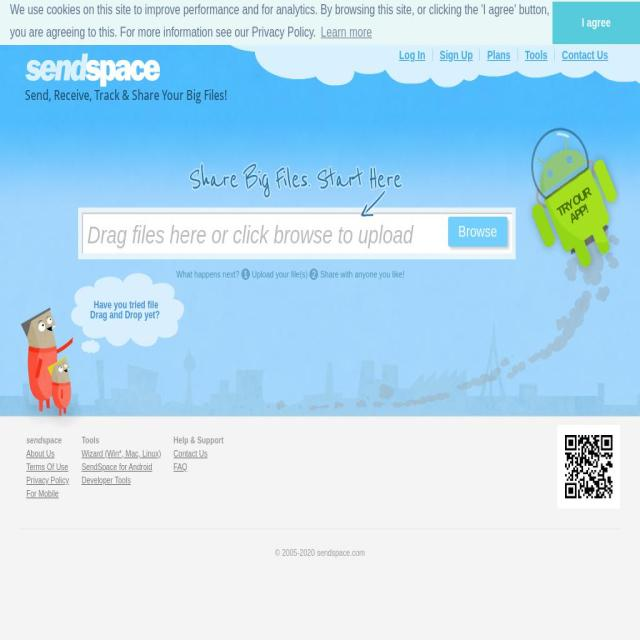button: (72, 215, 510, 252), (526, 135, 614, 269), (25, 52, 244, 102), (552, 1, 640, 44), (448, 215, 508, 246), (319, 20, 374, 46)
image: (20, 110, 620, 429), (188, 160, 403, 218), (558, 423, 620, 508), (25, 52, 164, 88)
link: (81, 447, 162, 458), (81, 460, 153, 471), (562, 47, 609, 61), (81, 474, 131, 484), (26, 460, 68, 471), (440, 47, 472, 61), (26, 474, 69, 484), (173, 447, 208, 458), (26, 487, 59, 498), (398, 48, 426, 60), (487, 47, 511, 61), (524, 47, 548, 61), (26, 447, 54, 458), (173, 460, 188, 471)
text: (10, 3, 549, 39), (87, 221, 414, 246), (25, 86, 244, 102), (81, 432, 161, 446), (555, 183, 592, 211), (318, 268, 404, 280), (275, 546, 366, 556), (90, 308, 160, 320), (91, 298, 159, 310), (176, 268, 242, 280), (250, 268, 309, 280), (173, 432, 218, 446), (567, 200, 587, 215), (42, 434, 62, 444), (27, 434, 42, 444), (309, 267, 319, 279), (241, 267, 250, 279)
